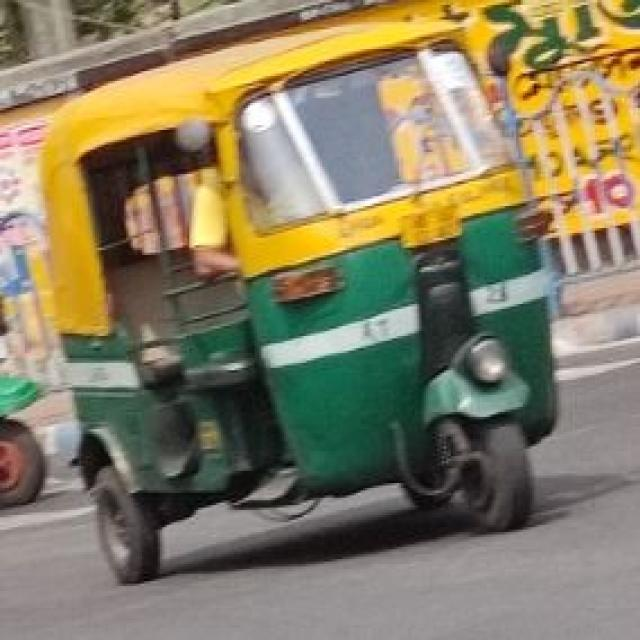autorickshaw: (31, 15, 564, 581)
